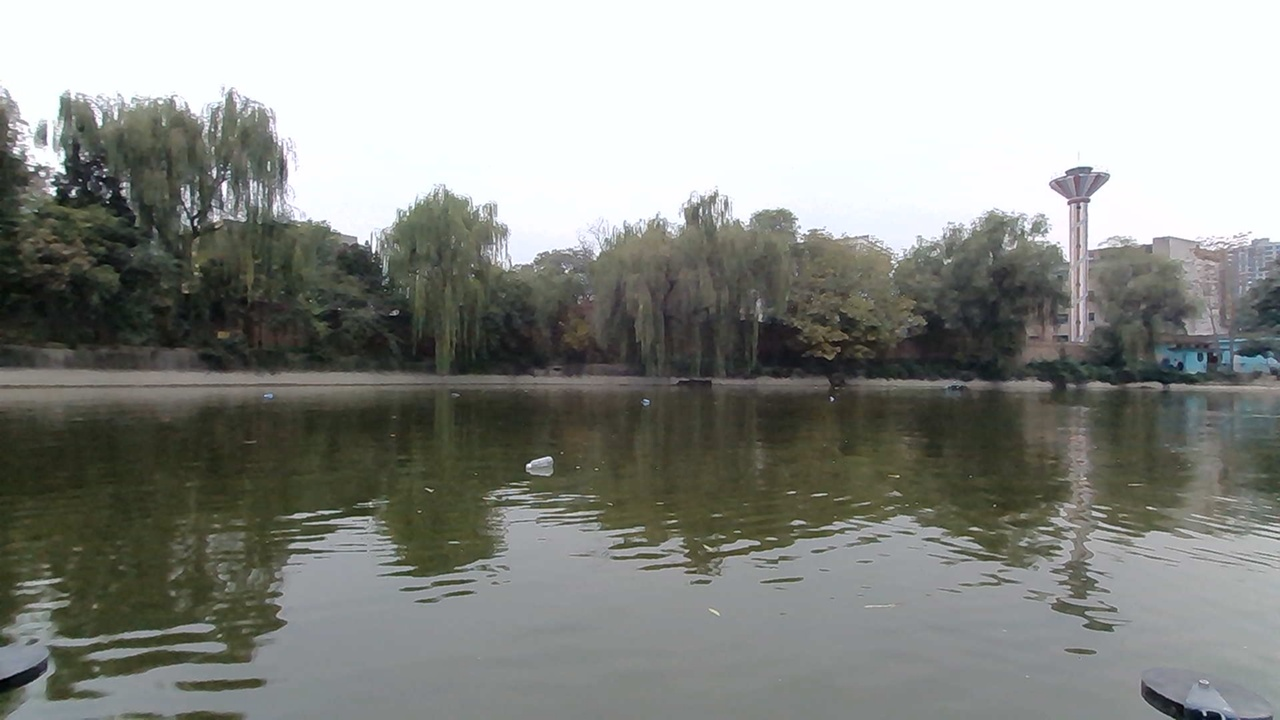bottle: (519, 451, 578, 480), (640, 398, 671, 416)
